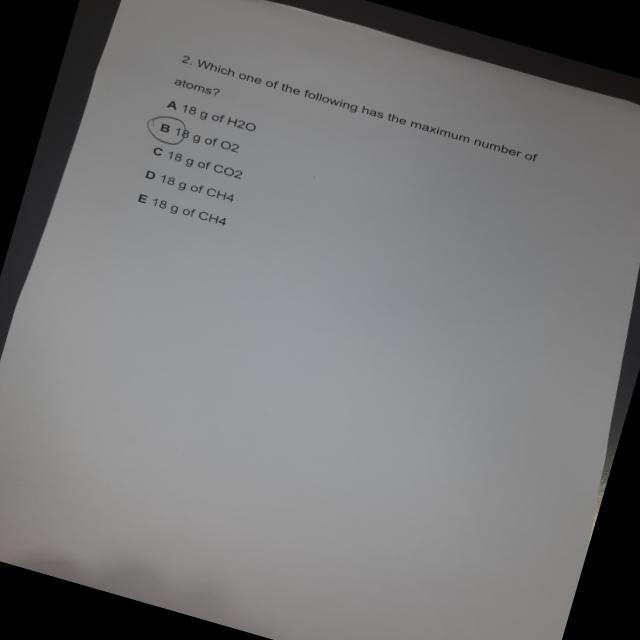B: (142, 109, 194, 151)
